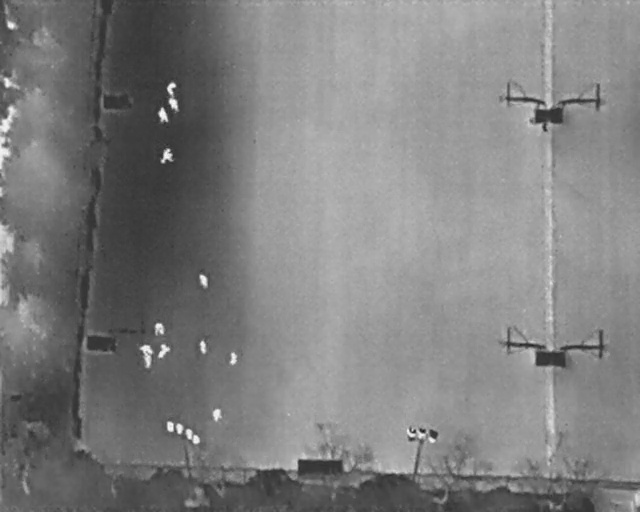Person: (152, 341, 173, 362), (155, 105, 171, 126), (166, 95, 181, 115), (197, 270, 211, 291), (159, 147, 174, 165), (227, 350, 239, 367), (153, 322, 166, 336), (211, 407, 223, 422), (138, 343, 153, 355), (167, 79, 177, 96), (197, 339, 207, 356), (142, 354, 152, 371)
